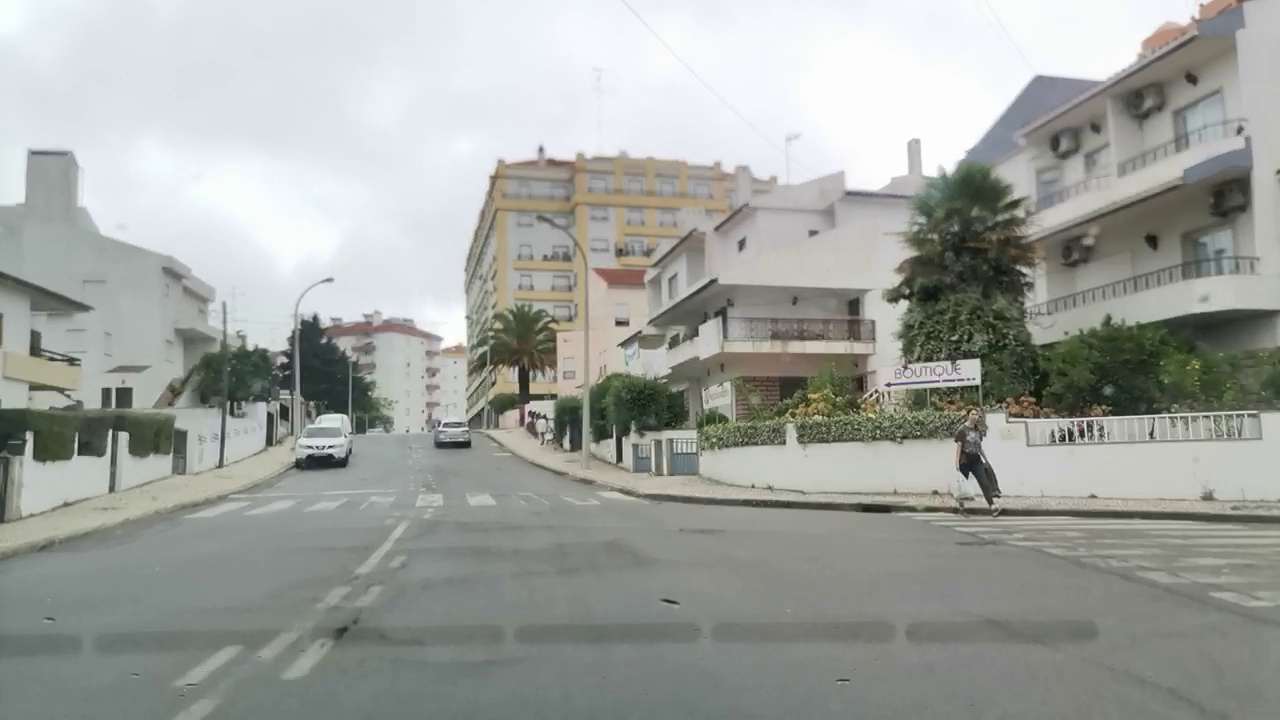Stairs: (904, 512, 1280, 629), (181, 490, 647, 520)
